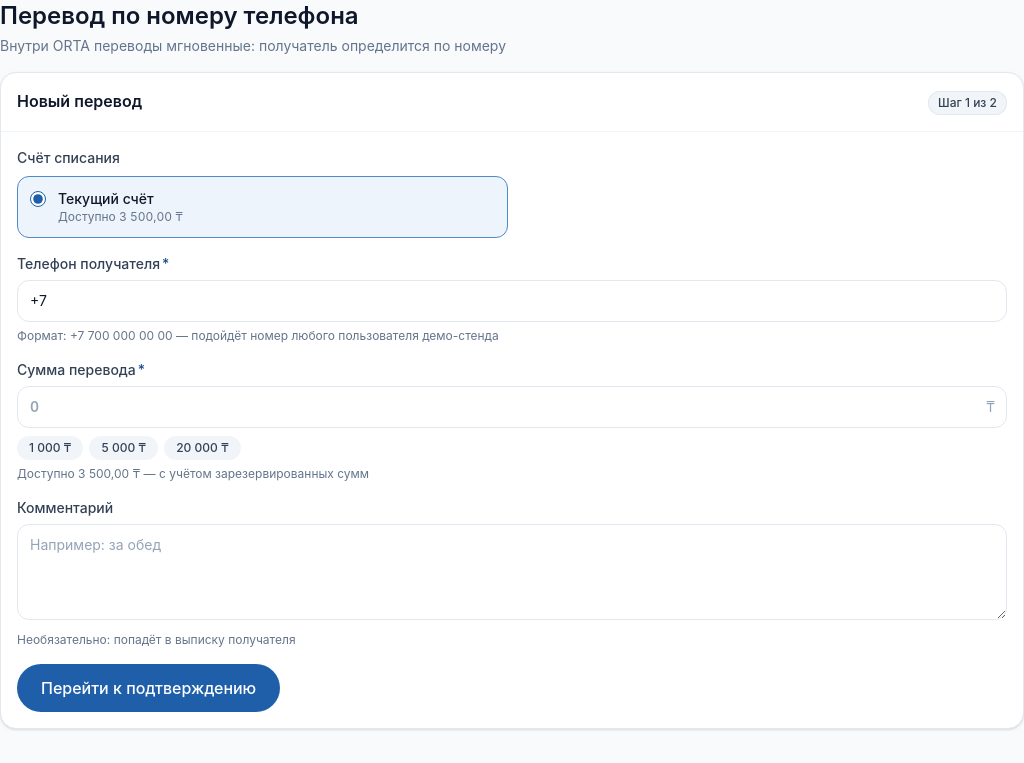
Test: transfer form › validates the recipient and the amount, tying errors to the inputs
The width and height of the screenshot is (1024, 763).
Expected: the text "Текущий счёт" is shown, [58,190,154,207]
# Empty form: both fields are flagged, nothing is sent.
Click the button "Перейти к подтверждению" at coordinates (149, 688), box [17,664,280,712]
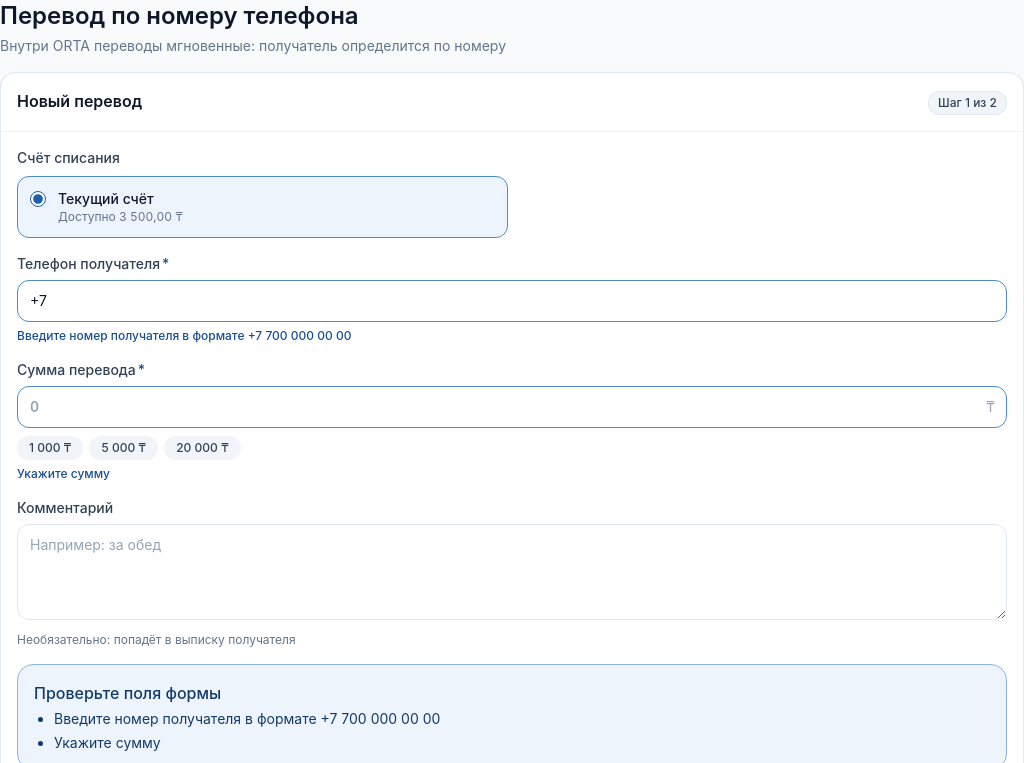
Now the message with id "transfer-phone-error" reads "Введите номер получателя в формате +7 700 000 00 00", box [17,328,351,343]
Now the message with id "transfer-amount-error" reads "Укажите сумму", box [17,466,110,481]
# An amount above the available balance is refused client-side.
Type "7009998877" into the field labelled "Телефон получателя*" at coordinates (512, 301), box [17,280,1007,322]
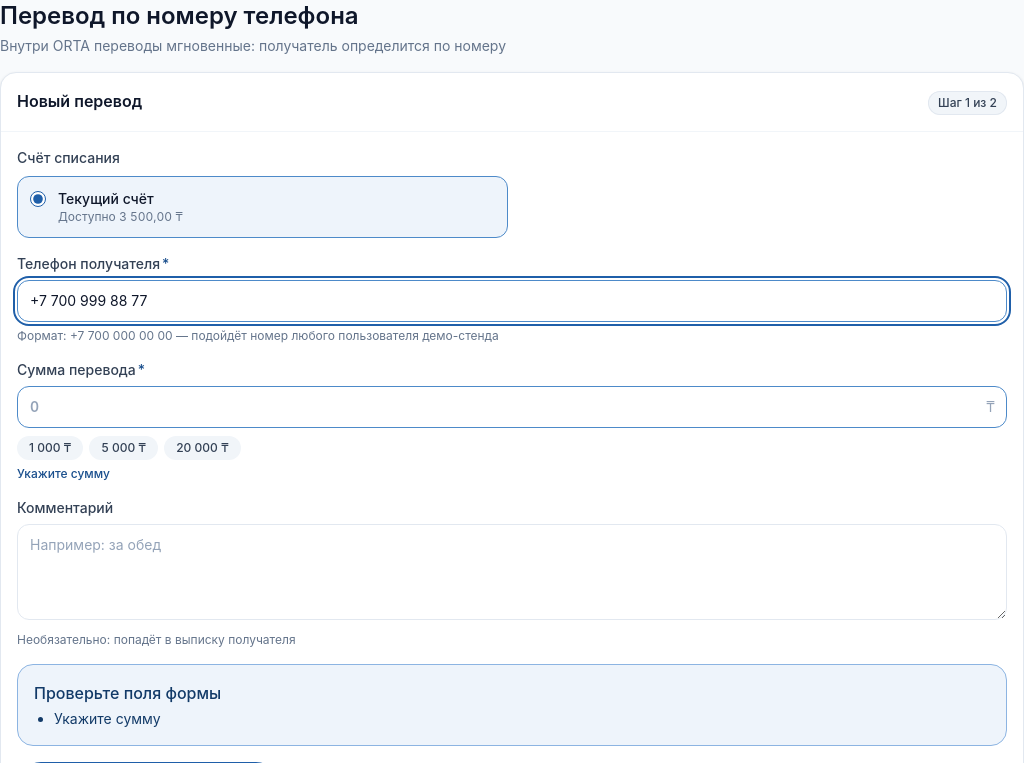
Type "9000" into the field labelled "Сумма перевода*" at coordinates (512, 407), box [17,386,1007,428]
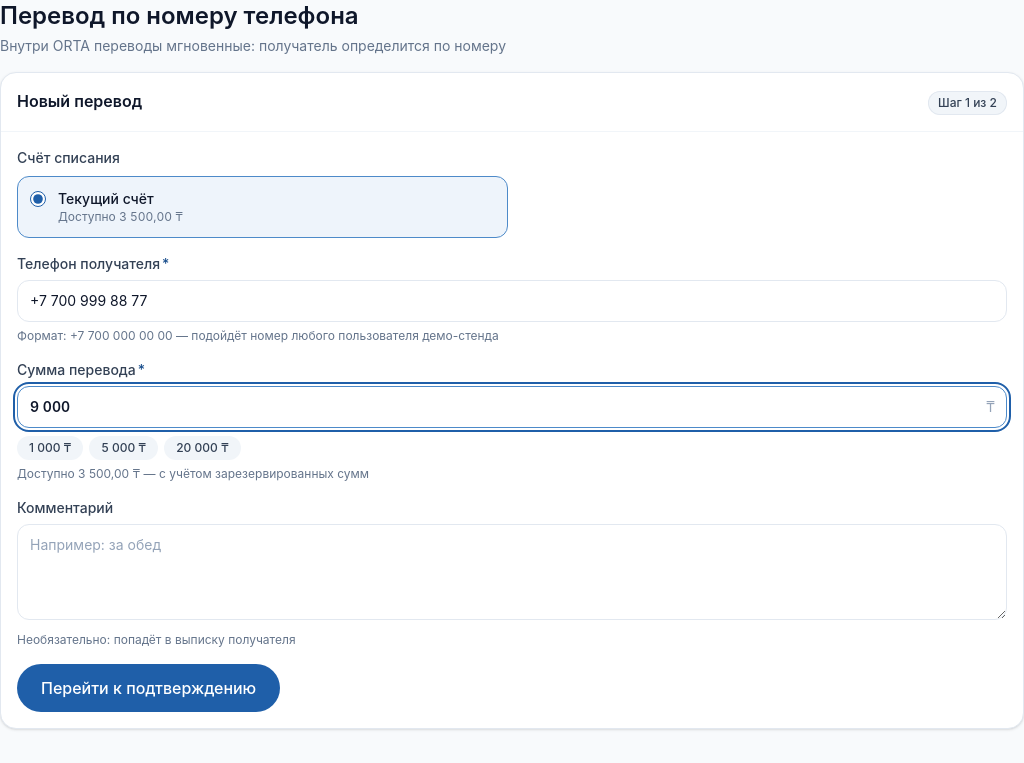
Click the button "Перейти к подтверждению" at coordinates (149, 688), box [17,664,280,712]
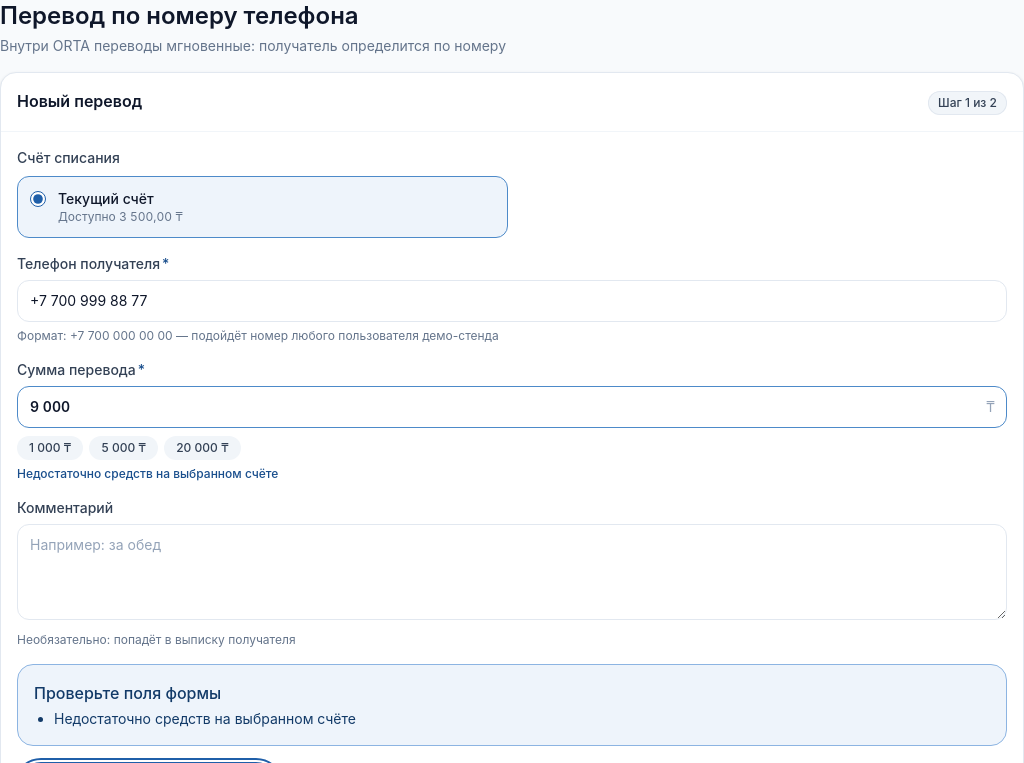
Now the message with id "transfer-amount-error" reads "Недостаточно средств на выбранном счёте", box [17,466,278,481]
